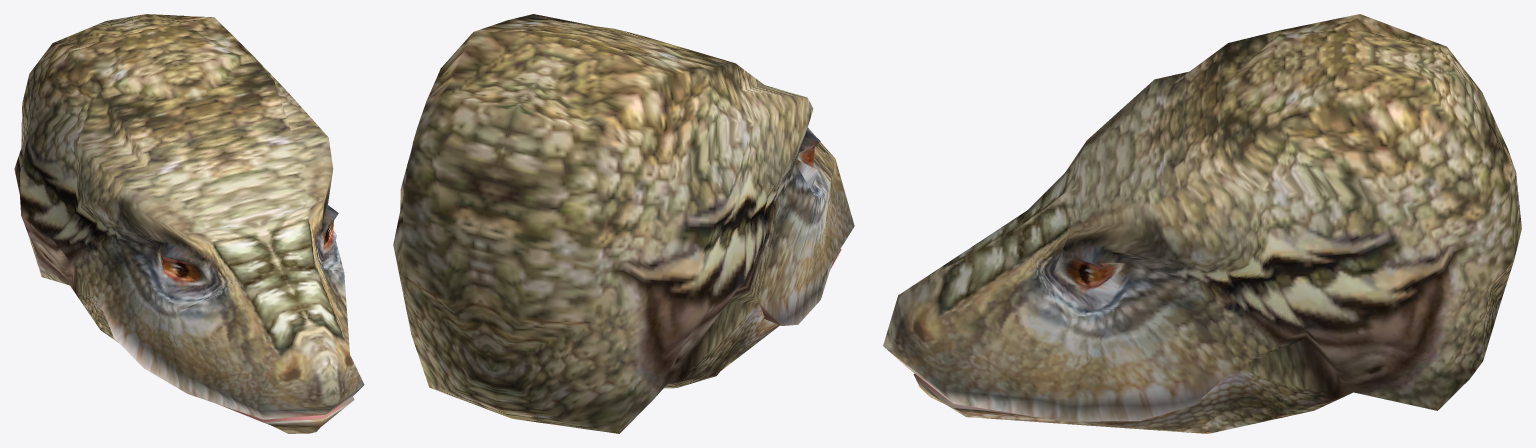
File: b_n_argonian_f_head_02.glb
3 renders of one model, left to right at view 1: azimuth 30°, elevation 25°; view 2: azimuth 150°, elevation 25°; view 3: azimuth 270°, elevation 25°, orthographic. The views are drawn at different scales.
Visible parts, largest first — view 1: Tri B_N_Argonian_F_Head_02; view 2: Tri B_N_Argonian_F_Head_02; view 3: Tri B_N_Argonian_F_Head_02.
Part boxes in pixels (x1,y1,x2,y2): Tri B_N_Argonian_F_Head_02: [14, 14, 364, 433]; Tri B_N_Argonian_F_Head_02: [393, 14, 854, 433]; Tri B_N_Argonian_F_Head_02: [883, 14, 1521, 433].
Size of the model in its own units: 0.0988 by 0.1188 by 0.1909.
1 material, 1 textured.
